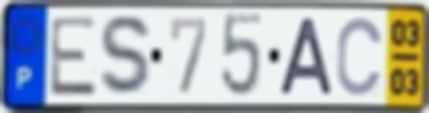5: (219, 10, 264, 102)
7: (167, 15, 209, 98)
A: (277, 16, 337, 98)
C: (334, 14, 386, 99)
E: (47, 14, 100, 99)
S: (97, 12, 156, 101)
